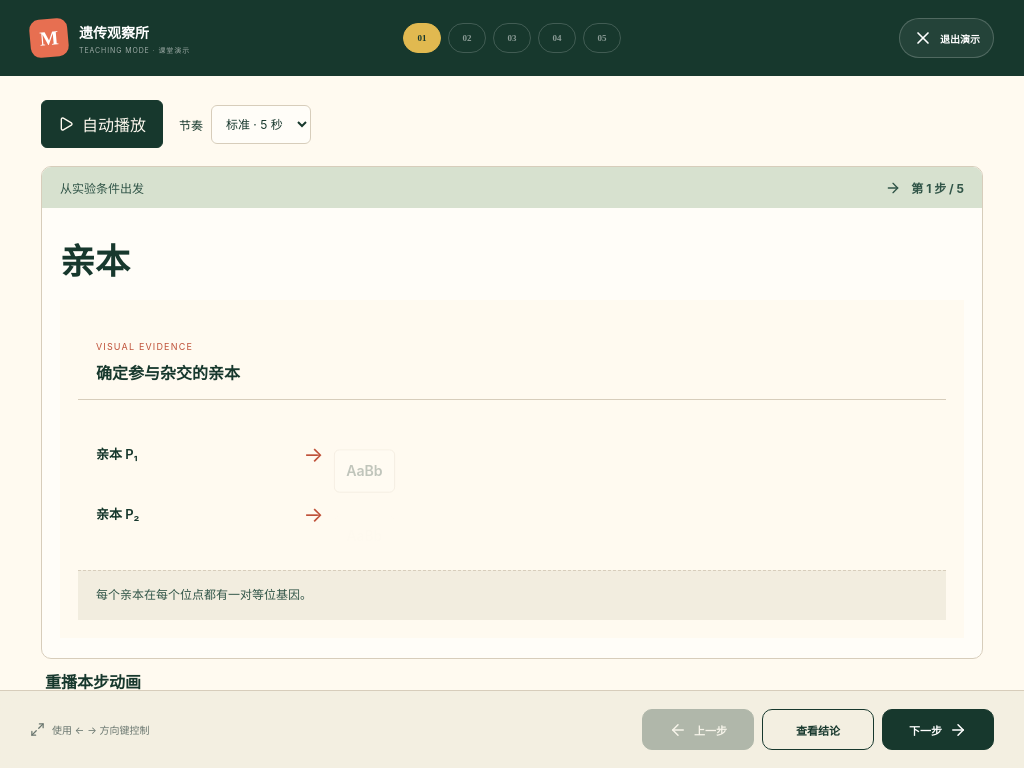
PresentationMode › reveals one teaching step at a time
Check: the heading "亲本" is shown, box x1=60 y1=243 x2=130 y2=282
Click the button "下一步" at (938, 730), box x1=882 y1=709 x2=994 y2=750
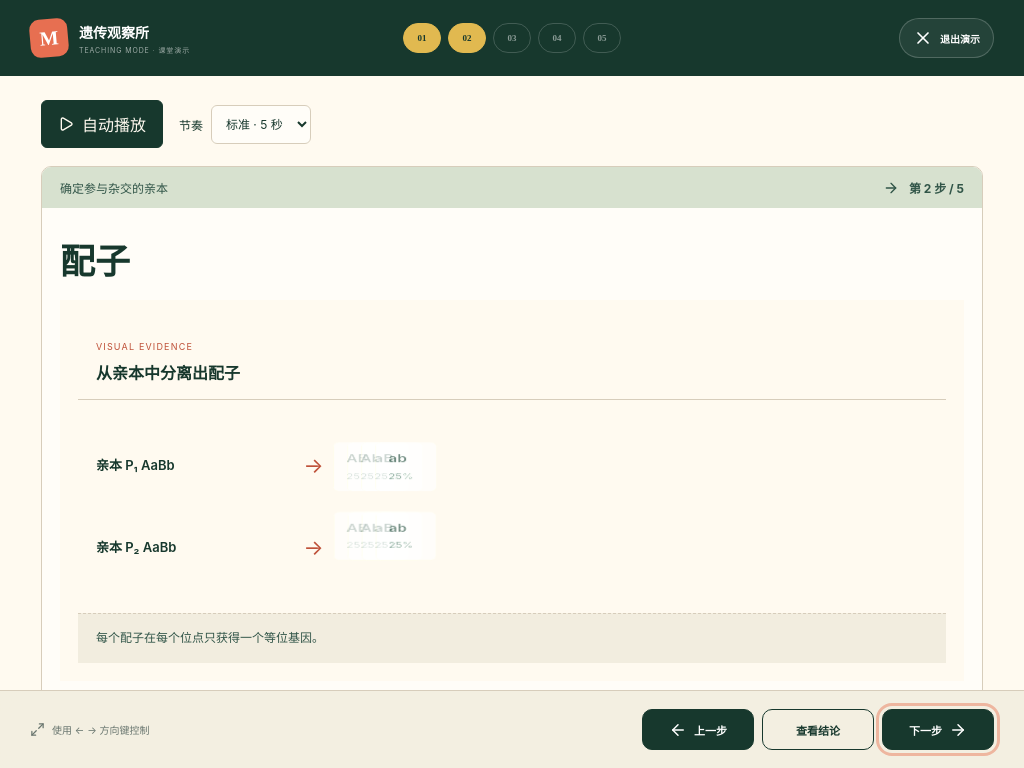
Check: the heading "配子" is shown, box x1=60 y1=243 x2=130 y2=282
